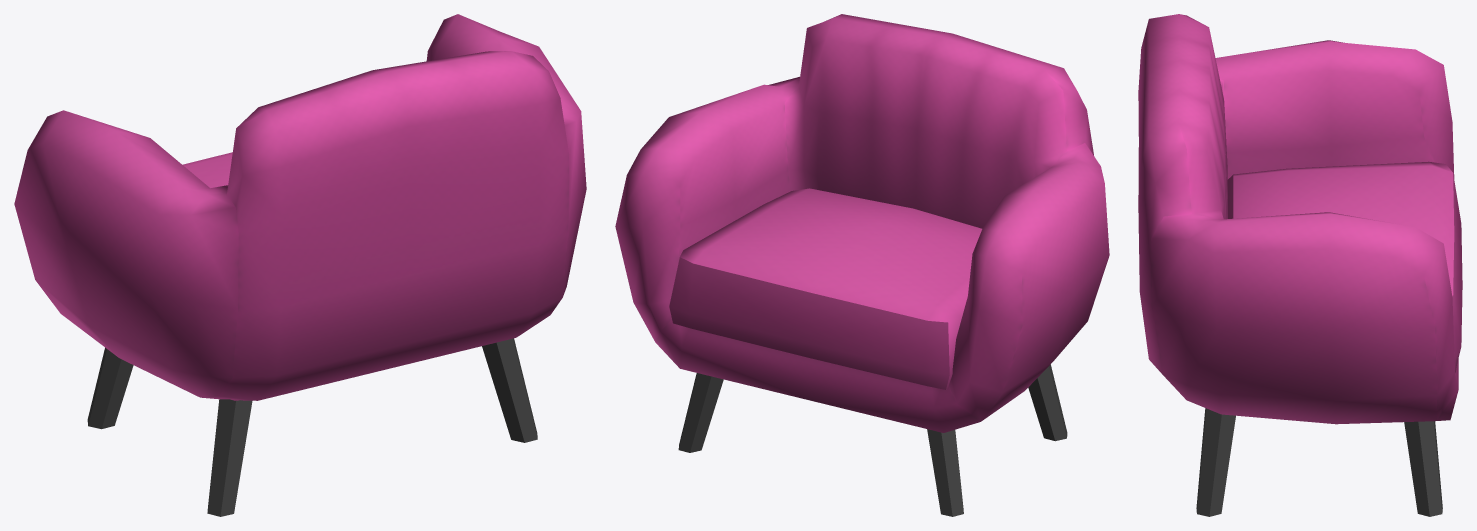
The model's file is FUR0210035.fbx.
3 renders of one model, left to right at view 1: azimuth 30°, elevation 25°; view 2: azimuth 150°, elevation 25°; view 3: azimuth 270°, elevation 25°, orthographic. The views are drawn at different scales.
Parts seen in each view (by area): view 1: smFUR0210035; view 2: smFUR0210035; view 3: smFUR0210035.
Boxes of the visible parts, left/top/right/bottom form: smFUR0210035: left=14, top=14, right=586, bottom=516; smFUR0210035: left=615, top=14, right=1109, bottom=516; smFUR0210035: left=1138, top=14, right=1462, bottom=516.
Bounding box in the file's own units: 132 × 109 × 84.11.
1 material, 1 textured.
